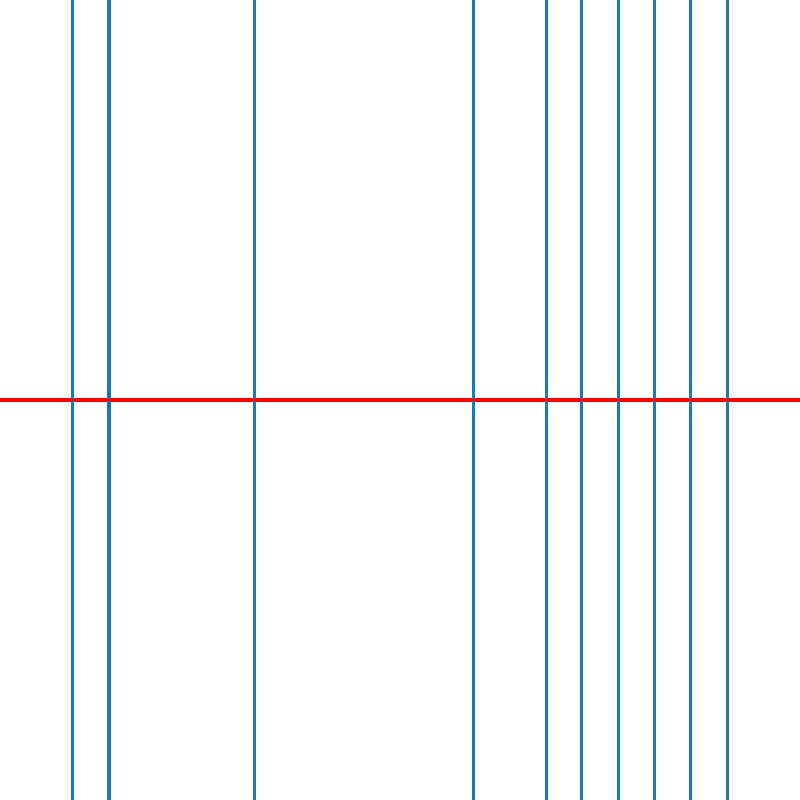root: (650, 396, 658, 404), (250, 396, 258, 404), (541, 396, 549, 404), (69, 396, 76, 404), (614, 396, 621, 404), (687, 396, 694, 404), (723, 396, 730, 404), (105, 396, 112, 404), (469, 396, 476, 404), (578, 396, 585, 404)
